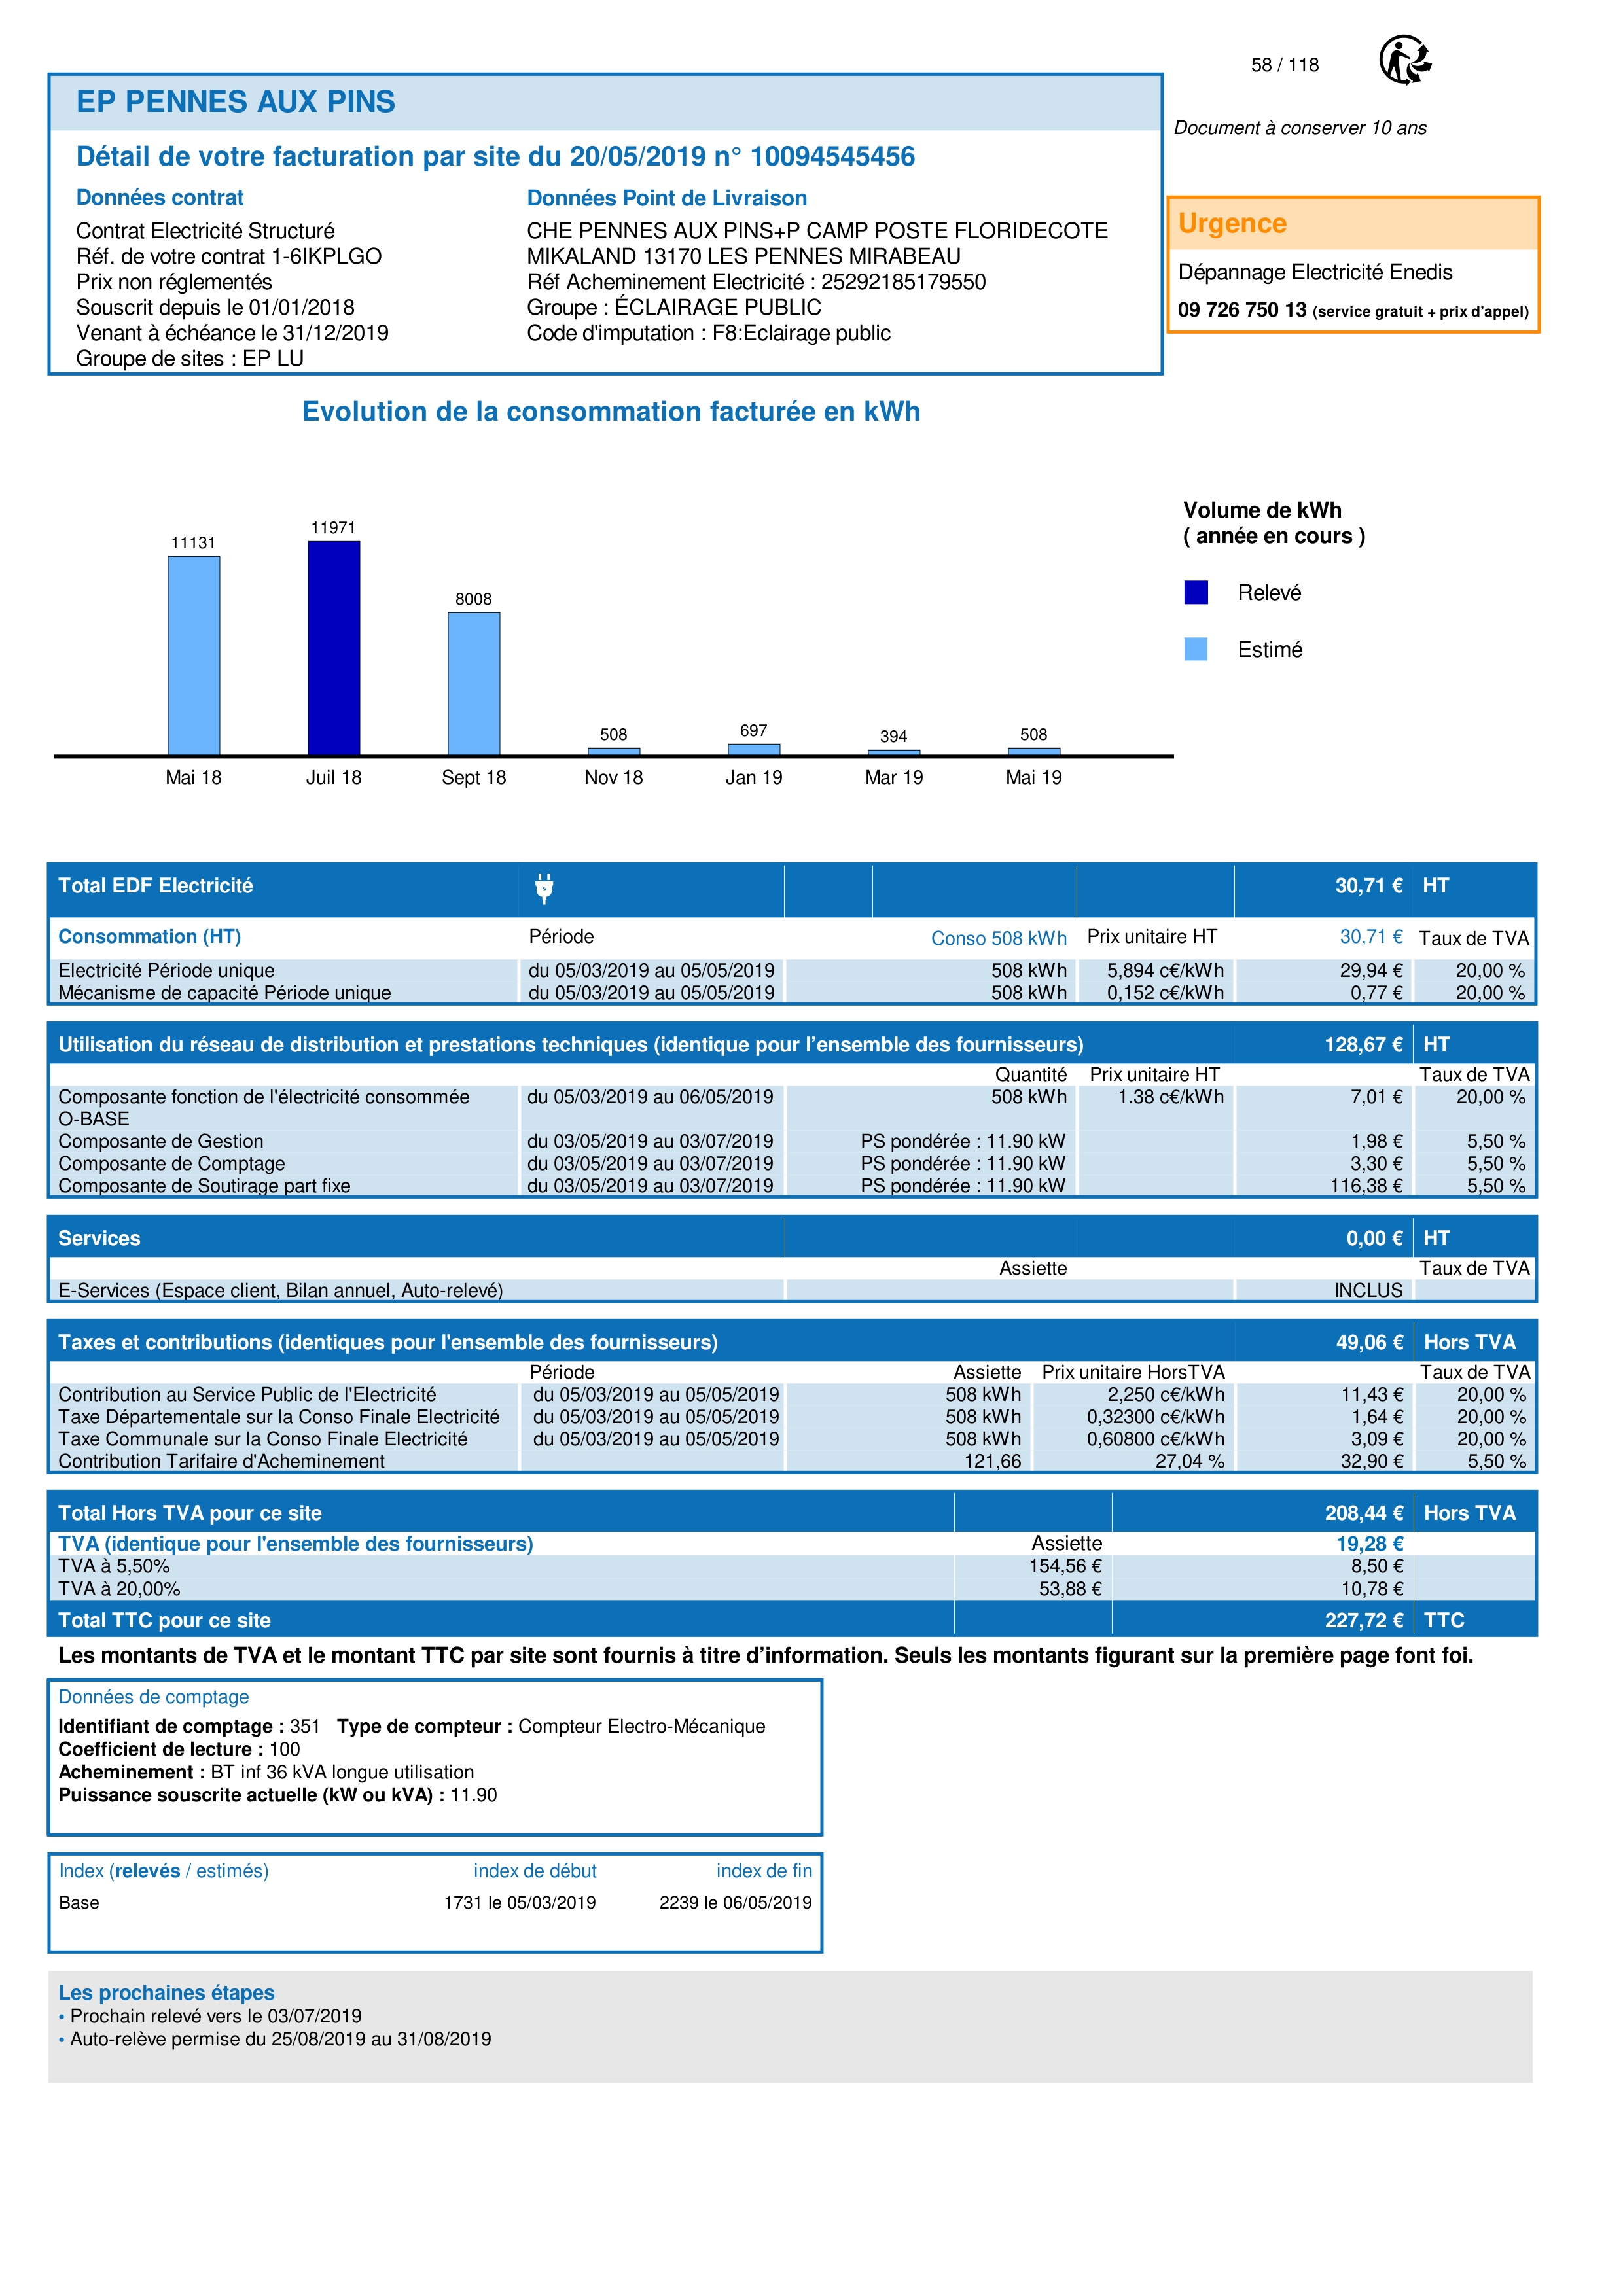area: (48, 1854, 823, 1954)
type_indicator: (48, 1854, 279, 1887)
